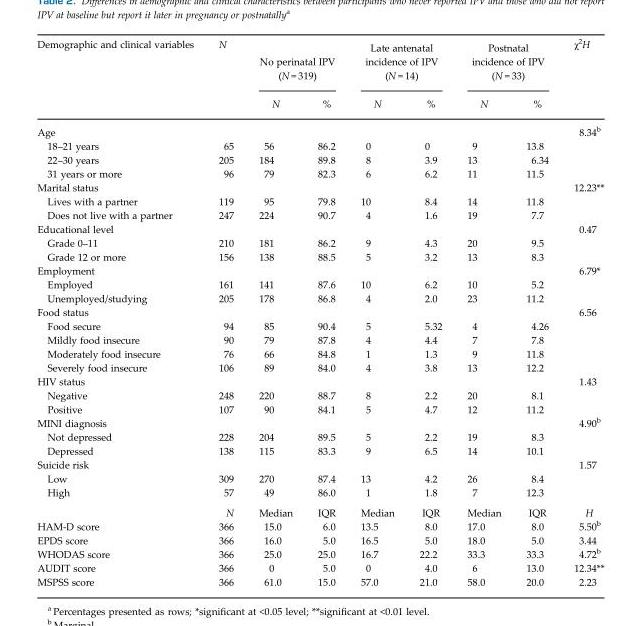table: (36, 36, 603, 587)
table column: (36, 36, 205, 587), (245, 36, 304, 587), (347, 36, 406, 587), (454, 36, 512, 587), (406, 36, 454, 587), (512, 36, 560, 587), (304, 36, 347, 587), (560, 36, 603, 587), (205, 36, 245, 587)
table column header: (36, 36, 603, 116)
table row: (36, 36, 603, 89), (36, 89, 603, 116), (36, 116, 603, 138), (36, 485, 603, 502), (36, 502, 603, 518), (36, 138, 603, 152), (36, 152, 603, 166), (36, 166, 603, 180), (36, 180, 603, 194), (36, 207, 603, 221), (36, 221, 603, 235), (36, 235, 603, 249), (36, 249, 603, 263), (36, 263, 603, 277), (36, 277, 603, 291), (36, 304, 603, 318), (36, 318, 603, 332), (36, 332, 603, 346), (36, 346, 603, 360), (36, 360, 603, 374), (36, 374, 603, 388), (36, 401, 603, 415), (36, 415, 603, 429), (36, 429, 603, 443), (36, 443, 603, 457), (36, 457, 603, 471), (36, 471, 603, 485), (36, 518, 603, 532), (36, 532, 603, 546), (36, 546, 603, 560), (36, 560, 603, 574), (36, 194, 603, 207), (36, 291, 603, 304), (36, 388, 603, 401), (36, 574, 603, 587)
table spanning cell: (36, 36, 205, 116), (36, 116, 560, 138), (36, 180, 560, 194), (36, 221, 560, 235), (36, 263, 560, 277), (36, 304, 560, 318), (36, 374, 560, 388), (36, 415, 560, 429), (36, 457, 560, 471), (347, 36, 454, 89), (454, 36, 560, 89), (36, 485, 205, 518), (245, 36, 347, 89), (560, 36, 603, 116), (205, 36, 245, 116), (560, 304, 603, 374), (560, 116, 603, 180), (560, 457, 603, 502), (560, 221, 603, 263), (560, 415, 603, 457), (560, 180, 603, 221), (560, 263, 603, 304), (560, 374, 603, 415)
